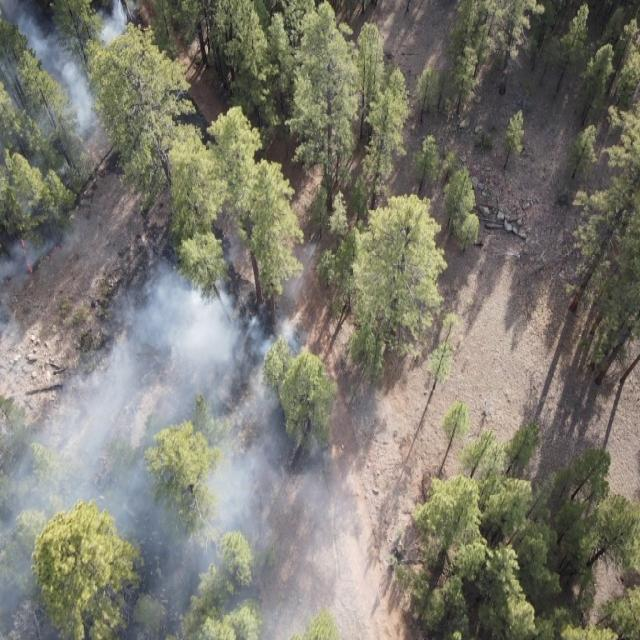fire: (15, 232, 38, 276), (40, 236, 66, 265)
smoke: (0, 192, 375, 638), (0, 0, 136, 172)
